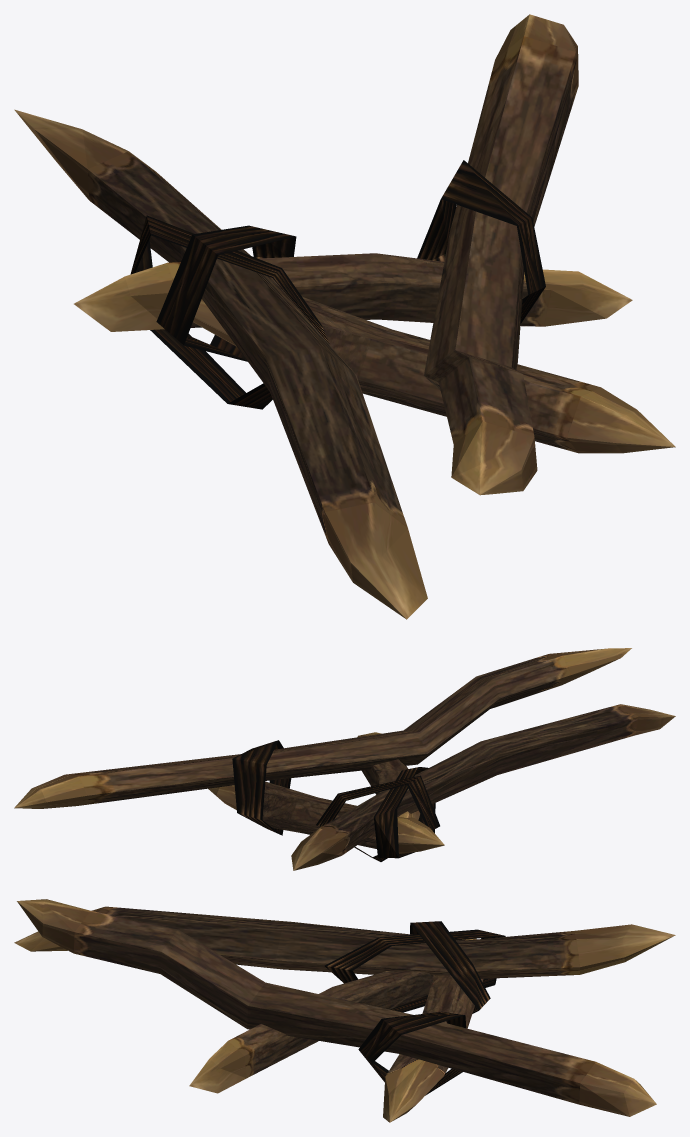
Rendered from lava_wallstair_convex_02.fbx.
The picture shows the model from 3 angles, top to bottom: view 1: azimuth 30°, elevation 25°; view 2: azimuth 150°, elevation 25°; view 3: azimuth 270°, elevation 25°; orthographic projection. The views are drawn at different scales.
Visible parts, largest first — view 1: obj0.144; view 2: obj0.144; view 3: obj0.144.
Part boxes in pixels (left/top/right/bottom): obj0.144: left=14, top=14, right=675, bottom=619; obj0.144: left=14, top=648, right=675, bottom=870; obj0.144: left=14, top=899, right=675, bottom=1122.
Bounding box in the file's own units: 3.17 × 0.8289 × 4.3.
